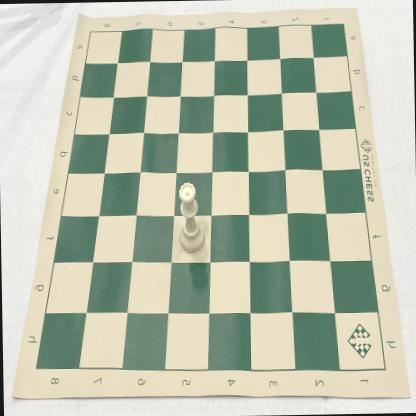white-queen: (178, 181, 206, 253)
